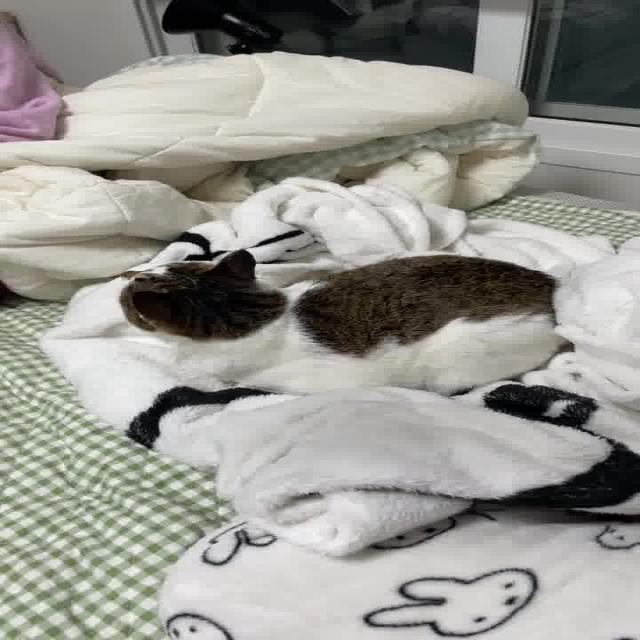cat: (65, 240, 625, 409)
